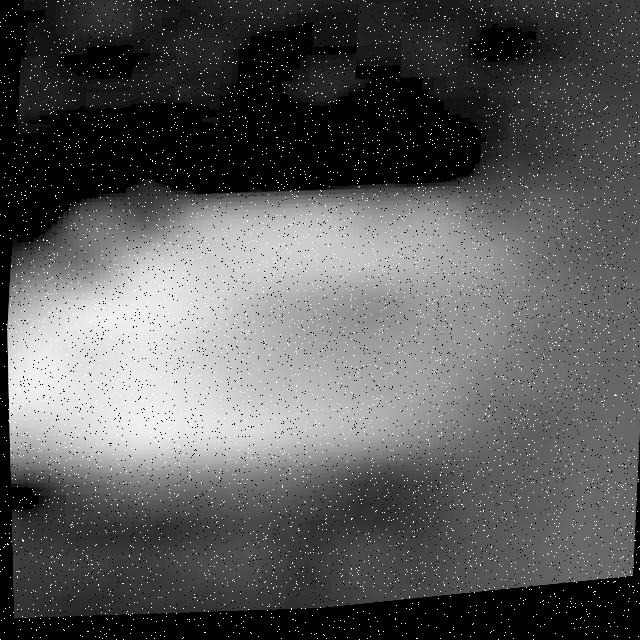person: (5, 162, 545, 566)
